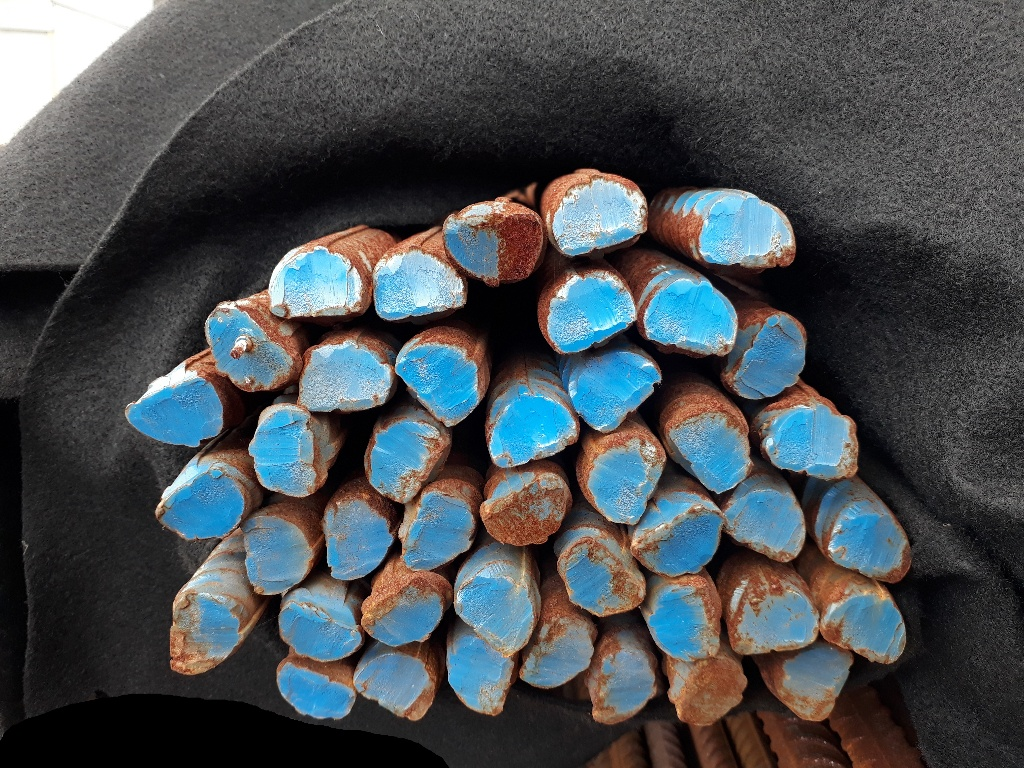dipstick: (696, 195, 798, 279), (446, 204, 543, 289), (629, 495, 722, 581), (569, 349, 664, 433), (206, 305, 295, 393), (640, 278, 738, 357), (550, 180, 646, 257), (396, 338, 480, 426), (727, 311, 806, 402), (581, 437, 662, 525), (724, 480, 808, 564), (543, 278, 637, 353), (482, 468, 570, 547), (276, 584, 365, 662), (362, 422, 448, 502), (124, 378, 222, 448), (395, 489, 477, 572), (827, 509, 912, 589), (728, 584, 819, 657), (820, 594, 909, 668), (767, 410, 861, 480), (246, 407, 314, 502), (516, 607, 595, 688), (492, 391, 576, 467), (669, 411, 750, 489), (301, 344, 391, 414), (641, 583, 720, 662), (266, 252, 362, 317), (453, 580, 535, 656), (156, 469, 245, 539), (323, 499, 396, 584), (164, 596, 243, 673), (372, 258, 465, 322), (354, 648, 434, 722), (771, 648, 851, 720), (243, 512, 313, 593), (667, 656, 746, 727), (446, 638, 517, 717), (585, 648, 655, 728), (276, 659, 355, 726)
